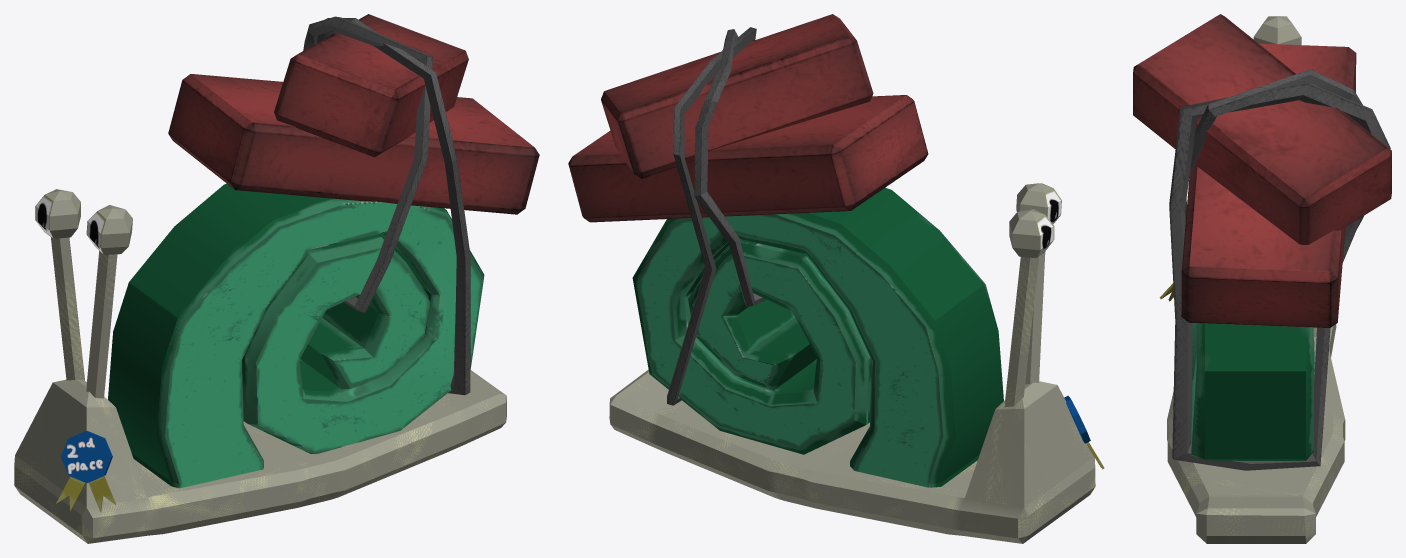
Rendered from model-slowest-snail.glb.
3 views of the same model, side by side, from view 1: azimuth 30°, elevation 25°; view 2: azimuth 150°, elevation 25°; view 3: azimuth 270°, elevation 25° (orthographic). The views are drawn at different scales.
Parts seen in each view (by area): view 1: Shell_Low, Snail_Low.001, Brick_1_Low, Brick_2_Low, Rope_1_Low, Rope_2_Low, Badge_Low, Eye_Neck_Low, Eye_Neck_2_Low, Eye_Left_Low, Eye_Right_Low; view 2: Shell_Low, Snail_Low.001, Brick_1_Low, Brick_2_Low, Rope_1_Low, Rope_2_Low, Eye_Neck_2_Low, Eye_Left_Low, Eye_Neck_Low, Eye_Right_Low; view 3: Brick_2_Low, Brick_1_Low, Shell_Low, Snail_Low.001, Rope_1_Low, Rope_2_Low, Eye_Left_Low.
Part boxes in pixels (bbox=[...]): Shell_Low: bbox=[108, 183, 484, 488]; Snail_Low.001: bbox=[14, 370, 506, 543]; Brick_1_Low: bbox=[168, 74, 539, 214]; Brick_2_Low: bbox=[274, 14, 468, 157]; Rope_1_Low: bbox=[317, 18, 470, 394]; Rope_2_Low: bbox=[303, 16, 432, 312]; Badge_Low: bbox=[56, 431, 116, 512]; Eye_Neck_Low: bbox=[86, 251, 117, 398]; Eye_Neck_2_Low: bbox=[51, 237, 84, 380]; Eye_Left_Low: bbox=[35, 189, 80, 238]; Eye_Right_Low: bbox=[86, 205, 132, 254]; Shell_Low: bbox=[632, 187, 1003, 487]; Snail_Low.001: bbox=[609, 369, 1095, 543]; Brick_1_Low: bbox=[568, 95, 928, 222]; Brick_2_Low: bbox=[601, 14, 873, 178]; Rope_1_Low: bbox=[667, 27, 756, 405]; Rope_2_Low: bbox=[694, 29, 766, 306]; Eye_Neck_2_Low: bbox=[1004, 256, 1039, 407]; Eye_Left_Low: bbox=[1009, 209, 1054, 257]; Eye_Neck_Low: bbox=[1025, 252, 1045, 384]; Eye_Right_Low: bbox=[1016, 183, 1061, 223]; Brick_2_Low: bbox=[1133, 14, 1391, 244]; Brick_1_Low: bbox=[1181, 43, 1356, 327]; Shell_Low: bbox=[1191, 323, 1314, 460]; Snail_Low.001: bbox=[1167, 324, 1345, 543]; Rope_1_Low: bbox=[1169, 81, 1390, 470]; Rope_2_Low: bbox=[1184, 69, 1363, 228]; Eye_Left_Low: bbox=[1253, 16, 1301, 45].
Bounding box in the file's own units: 0.0934 × 0.0802 × 0.042.
Materials: 1 (1 with a texture image).
